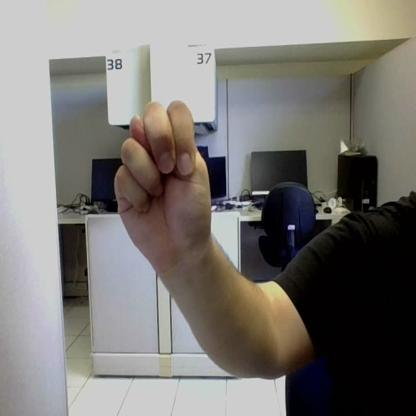N: (115, 101, 211, 272)
